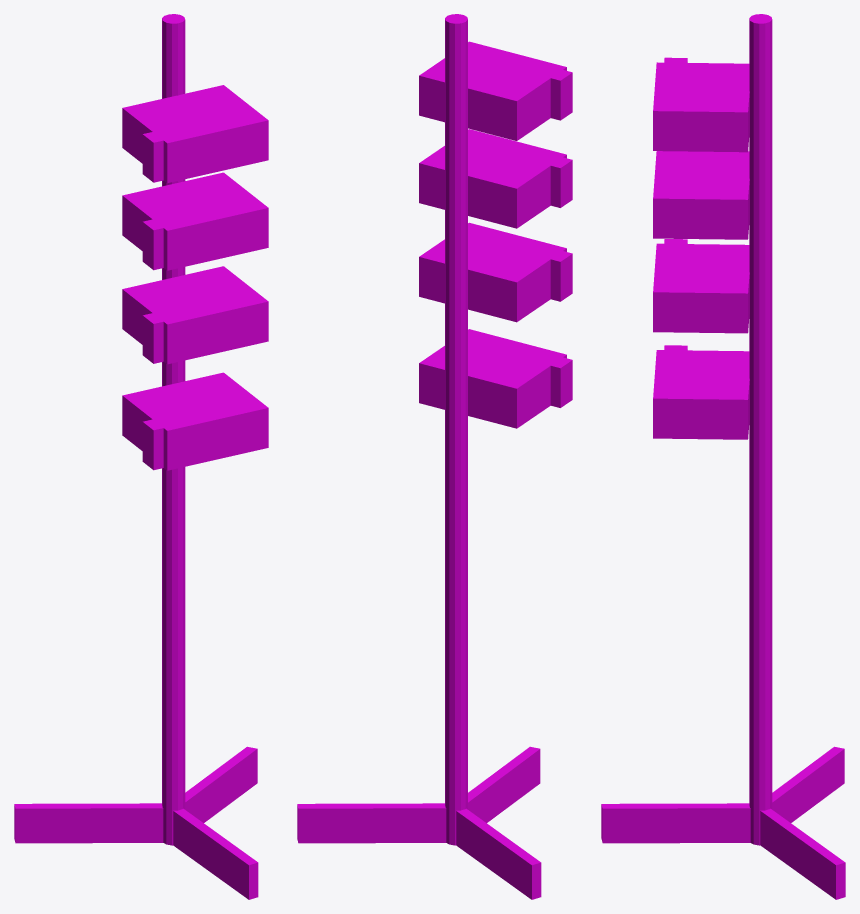
Rendered from SM_MachineFCollider.fbx.
3 views of the same model, side by side, from view 1: azimuth 30°, elevation 25°; view 2: azimuth 150°, elevation 25°; view 3: azimuth 270°, elevation 25° (orthographic).
Parts seen in each view (by area): view 1: MachineFCollision; view 2: MachineFCollision; view 3: MachineFCollision.
Boxes of the visible parts, x1=… form: MachineFCollision: x1=14, y1=14, x2=268, y2=899; MachineFCollision: x1=297, y1=14, x2=572, y2=899; MachineFCollision: x1=601, y1=14, x2=845, y2=899.
Bounding box in the file's own units: 52.17 × 169 × 45.36.
